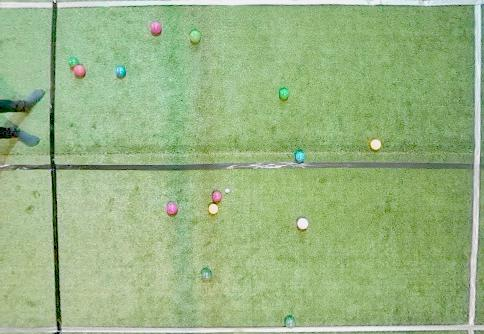blue: (294, 150, 306, 163), (115, 65, 126, 76)
green: (190, 30, 201, 42), (67, 56, 79, 67), (285, 316, 296, 328), (201, 268, 212, 279), (280, 88, 289, 99)
red: (150, 22, 162, 34), (74, 65, 86, 77), (167, 203, 178, 215), (297, 218, 308, 229), (212, 191, 222, 201)
vline: (1, 1, 63, 333), (466, 1, 483, 333)
white: (224, 188, 230, 194)
yellow: (370, 139, 381, 150), (209, 204, 219, 214)
